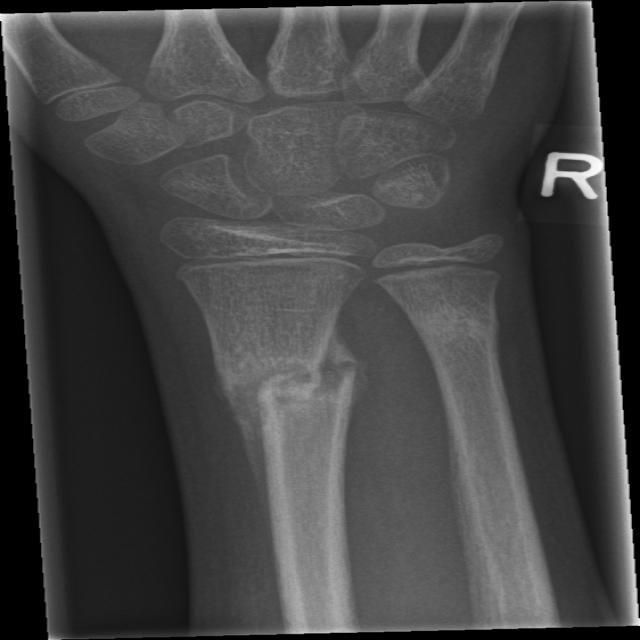radius fracture: (195, 329, 402, 487)
